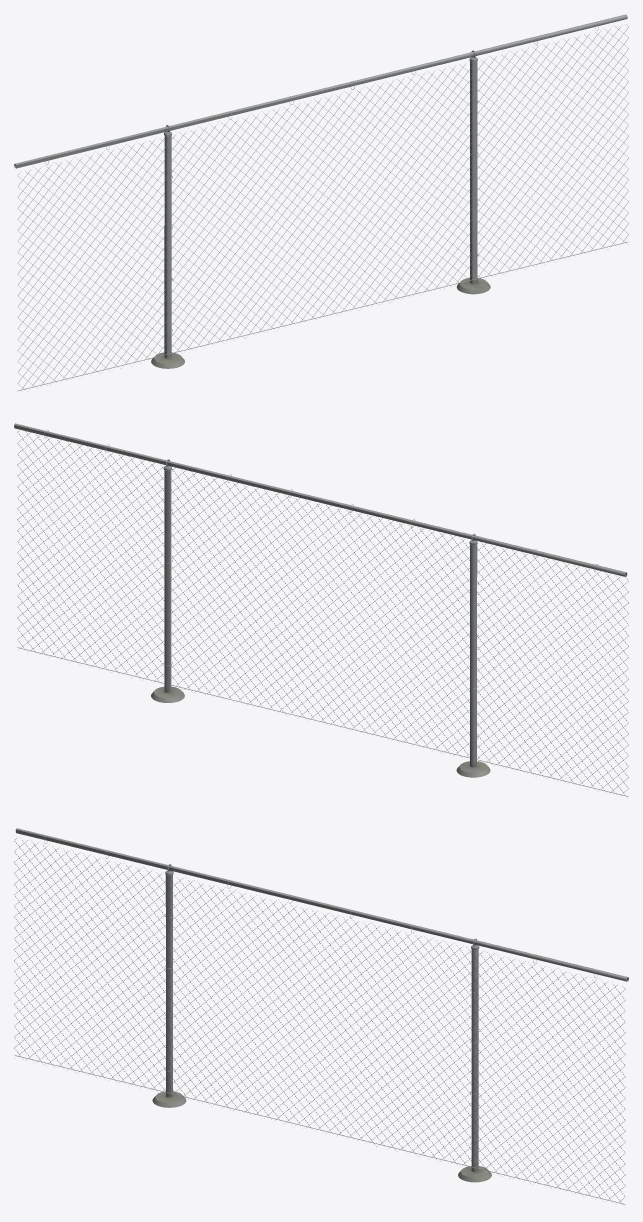
File: chainlink.glb
3 views of the same model, one above another, from view 1: azimuth 30°, elevation 25°; view 2: azimuth 150°, elevation 25°; view 3: azimuth 330°, elevation 25° (orthographic).
Parts seen in each view (by area): view 1: chain-link-fence_body; view 2: chain-link-fence_body; view 3: chain-link-fence_body.
Part boxes in pixels (x1=…): chain-link-fence_body: x1=14, y1=14, x2=628, y2=391; chain-link-fence_body: x1=14, y1=423, x2=628, y2=796; chain-link-fence_body: x1=14, y1=828, x2=628, y2=1204.
Size of the model in its own units: 5 by 1.85 by 0.2415.
1 material, 1 textured.
